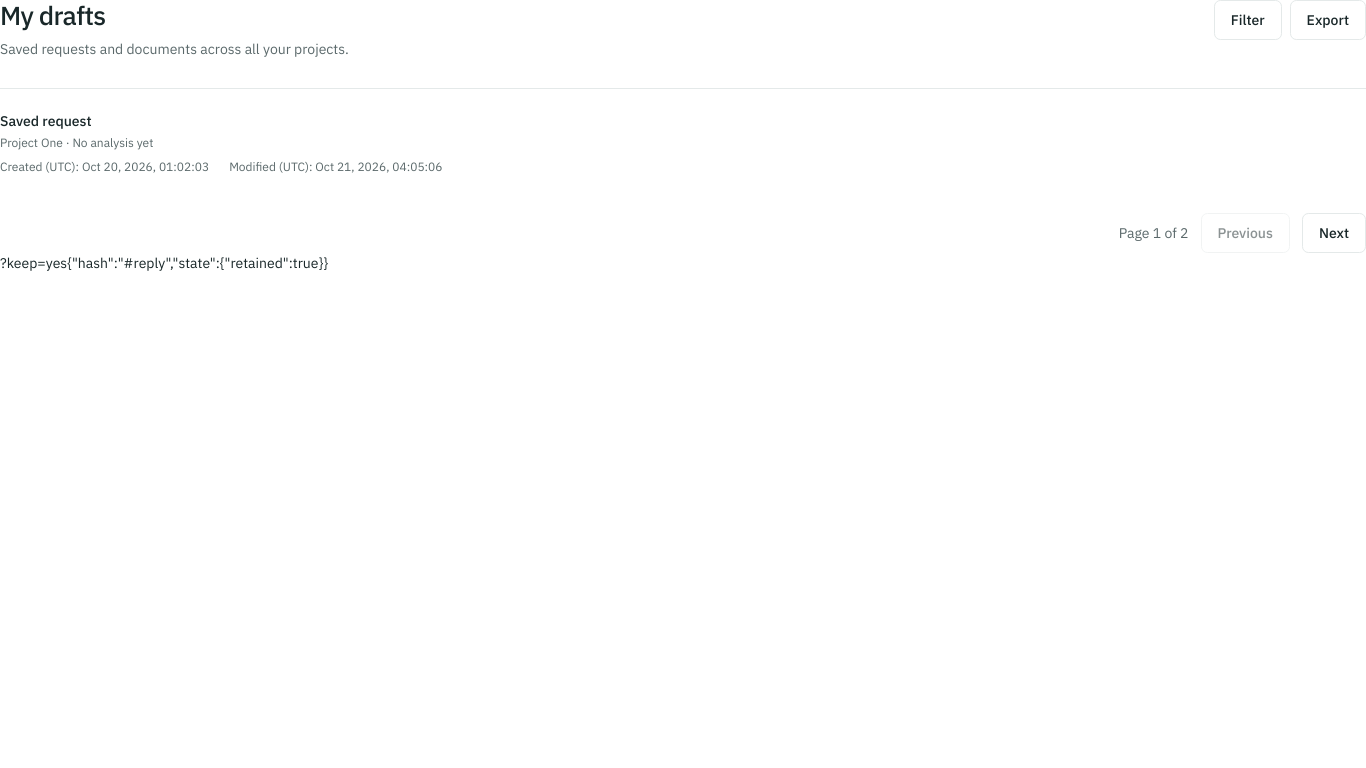
Test case: retains hash and history state through Apply, page changes, and Clear
Later steps or results of the test are not shown.
expect the text "Saved request" is shown: met, box x1=0 y1=112 x2=92 y2=130
Click the button "Filter" at (1248, 20), box x1=1214 y1=0 x2=1282 y2=40
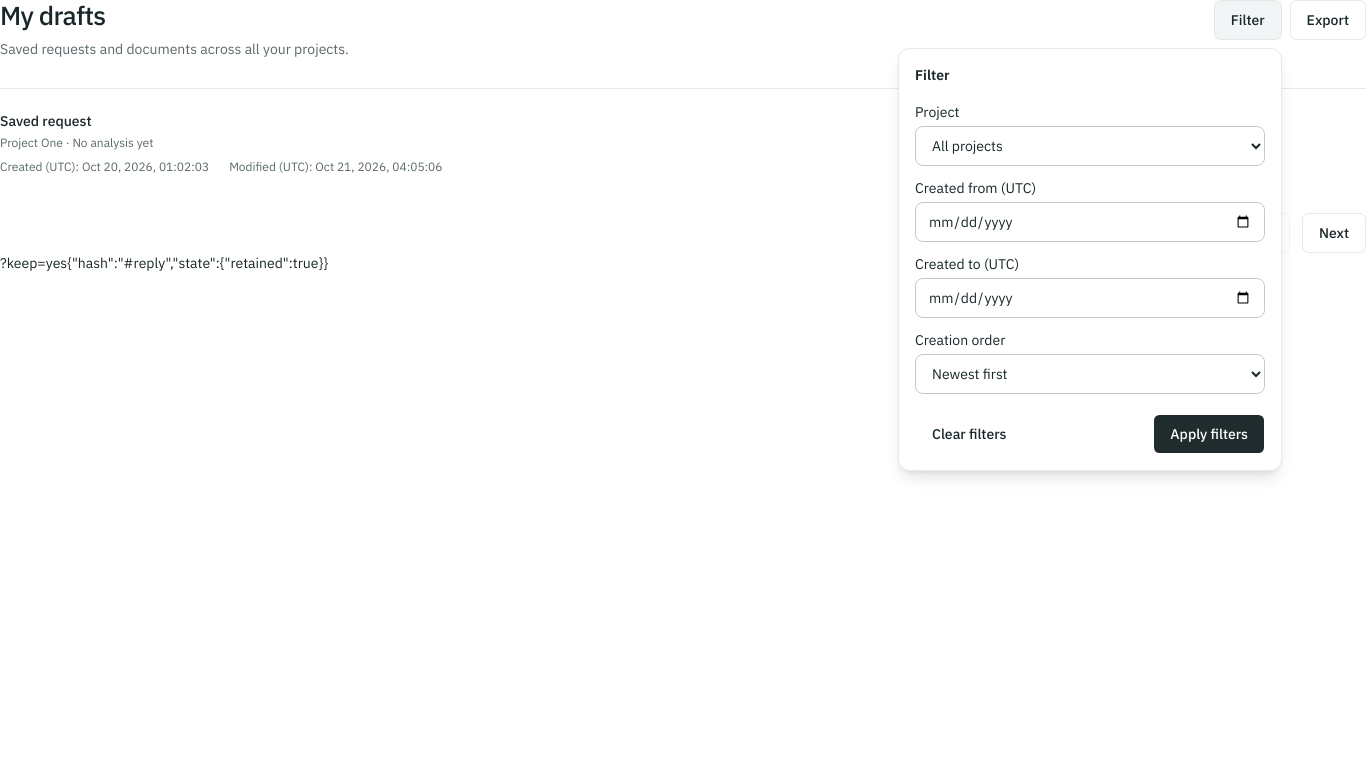
Select "Oldest first" in the dropdown labelled "Creation order" at (1090, 374), box x1=915 y1=354 x2=1265 y2=394
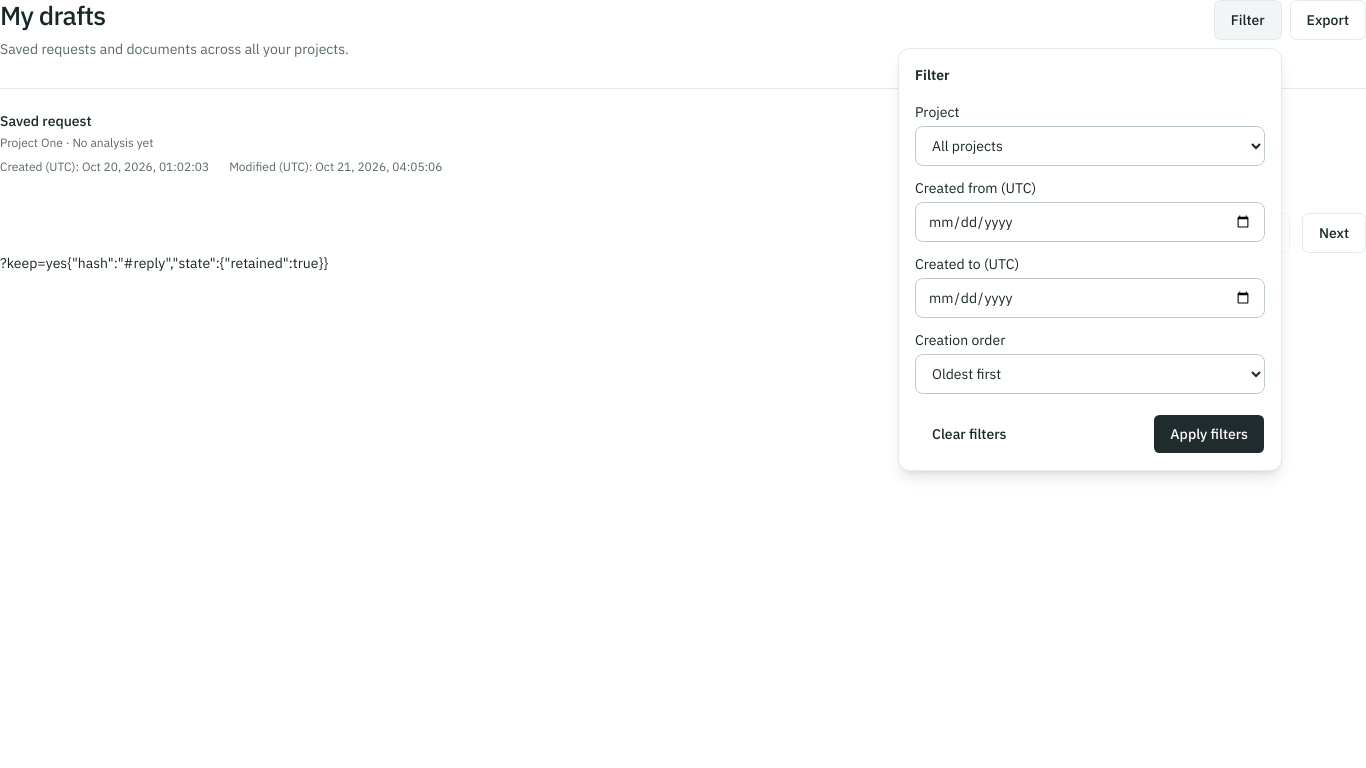
Click the button "Apply filters" at (1209, 434), box x1=1153 y1=414 x2=1265 y2=454
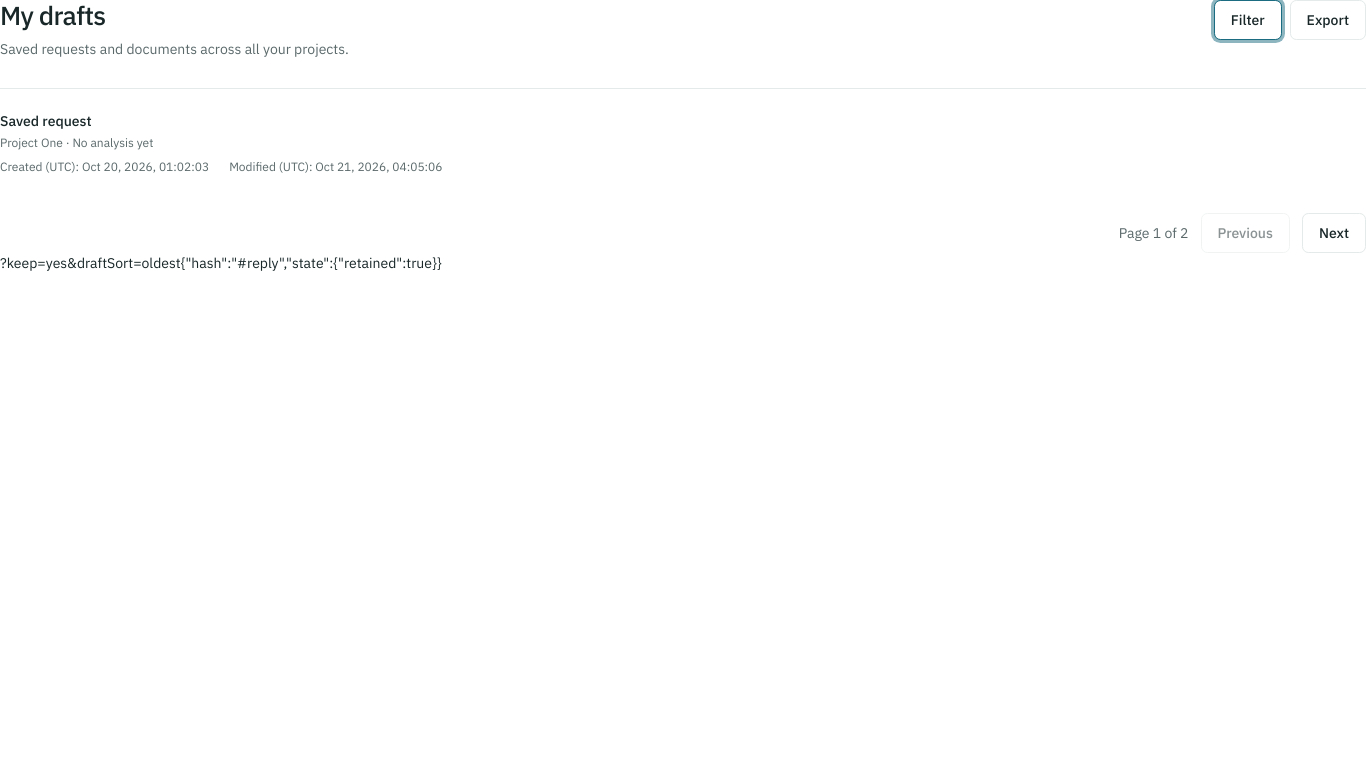
expect the text "Saved request" is shown: met, box x1=0 y1=112 x2=92 y2=130
expect the text named "Context" reads "{\"hash\":\"#reply\",\"state\":{\"retained\":true}}": met, box x1=181 y1=254 x2=442 y2=272
Click the button "Next" at (1334, 233), box x1=1302 y1=213 x2=1365 y2=253
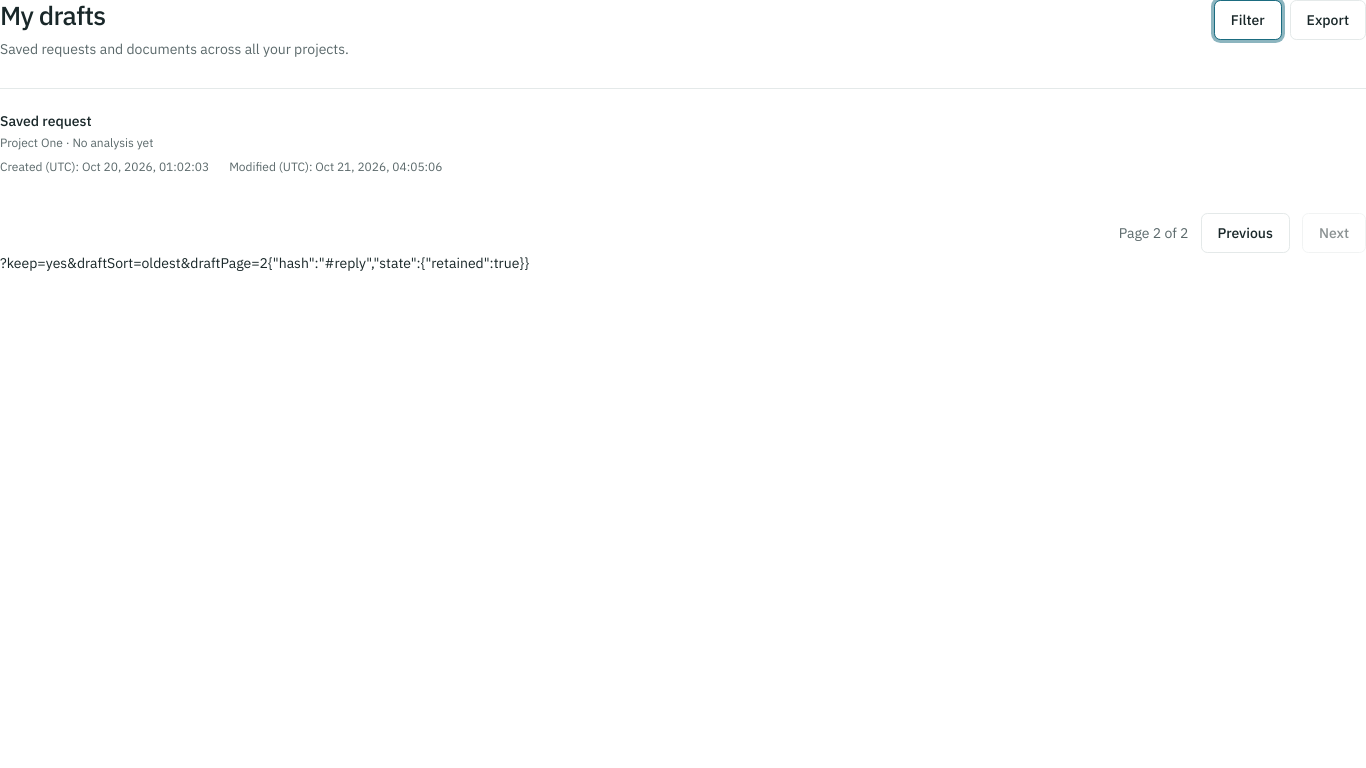
expect the text named "Context" reads "{\"hash\":\"#reply\",\"state\":{\"retained\":true}}": met, box x1=268 y1=254 x2=529 y2=272
expect the text named "Location" shows "draftPage=2": met, box x1=0 y1=254 x2=268 y2=272
